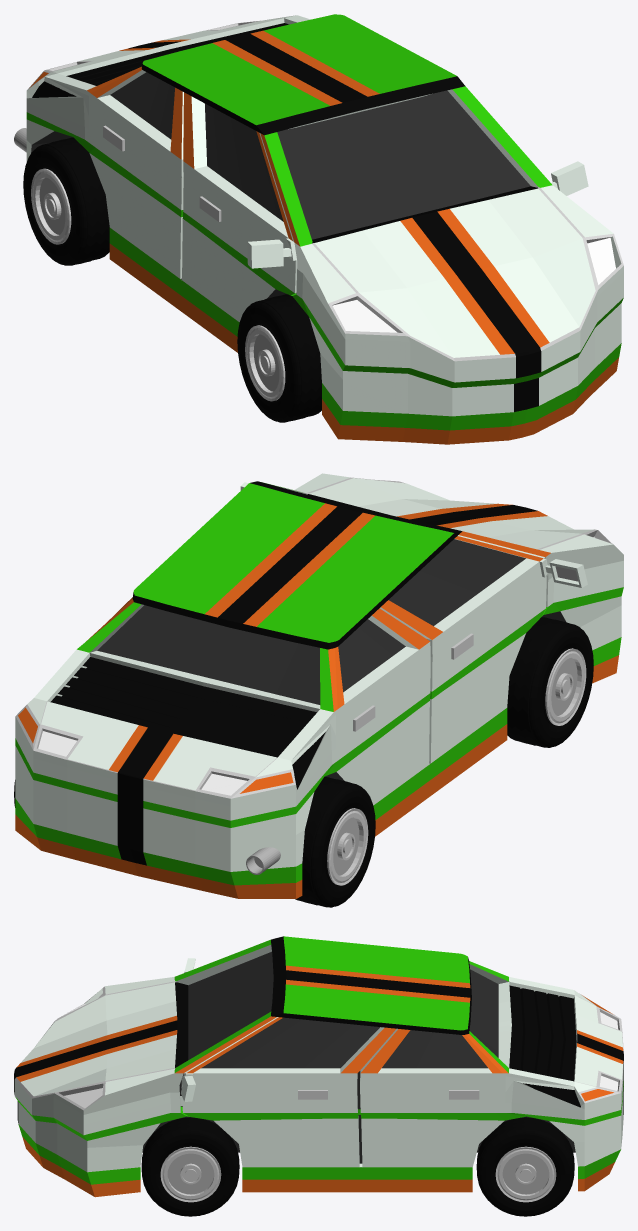
File: CR-CAR-22B.fbx
3 renders of one model, top to bottom at view 1: azimuth 30°, elevation 25°; view 2: azimuth 150°, elevation 25°; view 3: azimuth 270°, elevation 25°, orthographic. The views are drawn at different scales.
Parts seen in each view (by area): view 1: BODY, WHEEL.001, WHEEL.004; view 2: BODY, WHEEL.001, WHEEL.004, SHACMAN; view 3: BODY, WHEEL.003, WHEEL.002.
Part boxes in pixels (x1=…): BODY: x1=26, y1=14, x2=623, y2=444; WHEEL.001: x1=237, y1=294, x2=321, y2=422; WHEEL.004: x1=23, y1=137, x2=109, y2=265; BODY: x1=15, y1=473, x2=623, y2=898; WHEEL.001: x1=507, y1=617, x2=593, y2=747; WHEEL.004: x1=295, y1=777, x2=375, y2=907; SHACMAN: x1=246, y1=847, x2=280, y2=874; BODY: x1=14, y1=936, x2=623, y2=1197; WHEEL.003: x1=141, y1=1117, x2=239, y2=1216; WHEEL.002: x1=476, y1=1117, x2=574, y2=1216.
Bounding box in the file's own units: 121 × 82.49 × 243.
